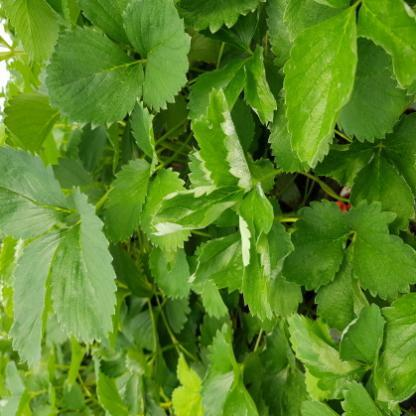Strawberry_Powdery_Mildew_Leaf: (282, 6, 358, 168), (192, 86, 254, 190), (150, 185, 245, 236), (239, 180, 275, 266), (188, 228, 243, 284), (338, 304, 386, 366), (255, 221, 295, 286)
